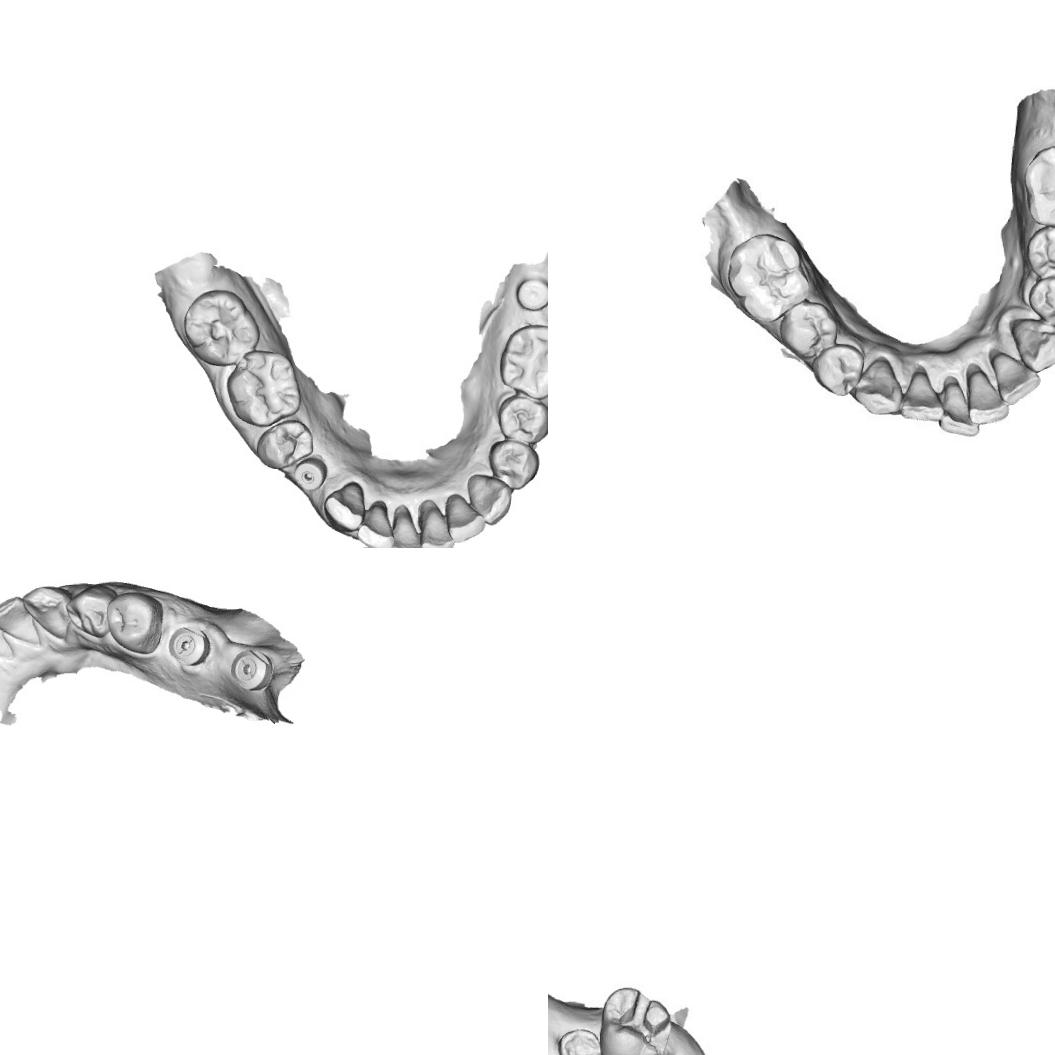canine: (21, 582, 76, 648), (848, 356, 905, 419), (464, 470, 514, 527), (1007, 316, 1055, 374), (322, 480, 368, 534)
implant: (512, 274, 548, 312), (292, 456, 326, 492)
implant_minus: (164, 624, 211, 670), (228, 648, 276, 690)
incisor: (990, 348, 1040, 408), (897, 370, 945, 426), (936, 380, 981, 439), (965, 371, 1010, 425), (442, 492, 488, 544), (354, 500, 393, 548), (417, 505, 456, 548), (0, 594, 38, 637), (387, 510, 422, 548), (0, 612, 18, 665)
inlay: (601, 988, 673, 1055)
molar: (724, 231, 814, 330), (179, 286, 263, 370), (223, 347, 304, 430), (495, 320, 548, 401), (1019, 142, 1055, 233)
premolar: (105, 590, 166, 656), (776, 300, 839, 362), (252, 418, 316, 471), (810, 342, 866, 398), (486, 438, 542, 492), (493, 393, 548, 445), (68, 588, 115, 636), (1023, 225, 1055, 281), (1027, 274, 1055, 327)
